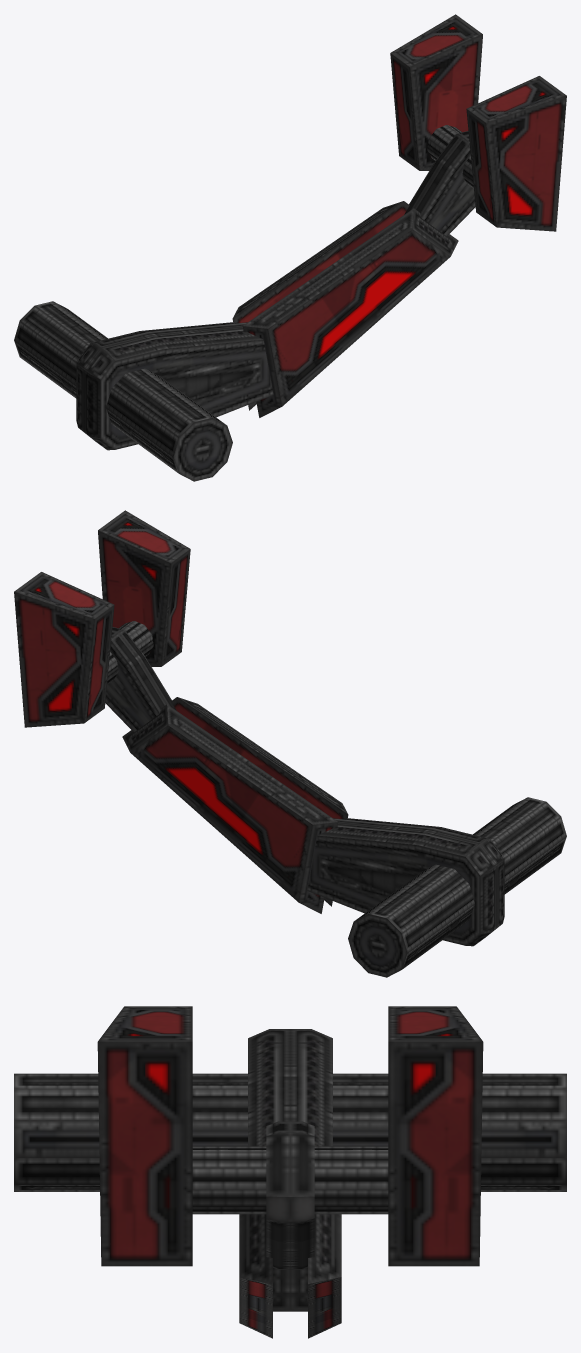
Rendered from BFP_SB_AttachmentArm01.FBX.
3 views of the same model, one above another, from view 1: azimuth 30°, elevation 25°; view 2: azimuth 150°, elevation 25°; view 3: azimuth 270°, elevation 25° (orthographic). The views are drawn at different scales.
Parts seen in each view (by area): view 1: ArmGripSection01, ArmSection02, ArmSection01, BFP_SB_AttachmentArm01, ArmSection03, ArmSectionRotator02; view 2: ArmGripSection01, ArmSection02, ArmSection01, BFP_SB_AttachmentArm01, ArmSection03, ArmSectionRotator02; view 3: ArmGripSection01, BFP_SB_AttachmentArm01, ArmSectionRotator02, ArmSection01, ArmSection02, ArmSection03.
Boxes of the visible parts, x1,y1,x2,y2 form: ArmGripSection01: (390, 14, 566, 231); ArmSection02: (232, 201, 458, 417); ArmSection01: (76, 322, 273, 450); BFP_SB_AttachmentArm01: (14, 301, 232, 481); ArmSection03: (404, 131, 475, 236); ArmSectionRotator02: (427, 125, 473, 188); ArmGripSection01: (14, 510, 190, 727); ArmSection02: (122, 697, 348, 913); ArmSection01: (307, 818, 504, 946); BFP_SB_AttachmentArm01: (348, 797, 566, 977); ArmSection03: (105, 627, 176, 732); ArmSectionRotator02: (107, 621, 153, 684); ArmGripSection01: (97, 1006, 483, 1266); BFP_SB_AttachmentArm01: (14, 1073, 566, 1191); ArmSectionRotator02: (192, 1146, 388, 1214); ArmSection01: (248, 1029, 332, 1311); ArmSection02: (239, 1214, 341, 1338); ArmSection03: (266, 1121, 314, 1269).
Size of the model in its own units: 1421 by 944 by 919.
1 material, 1 textured.
